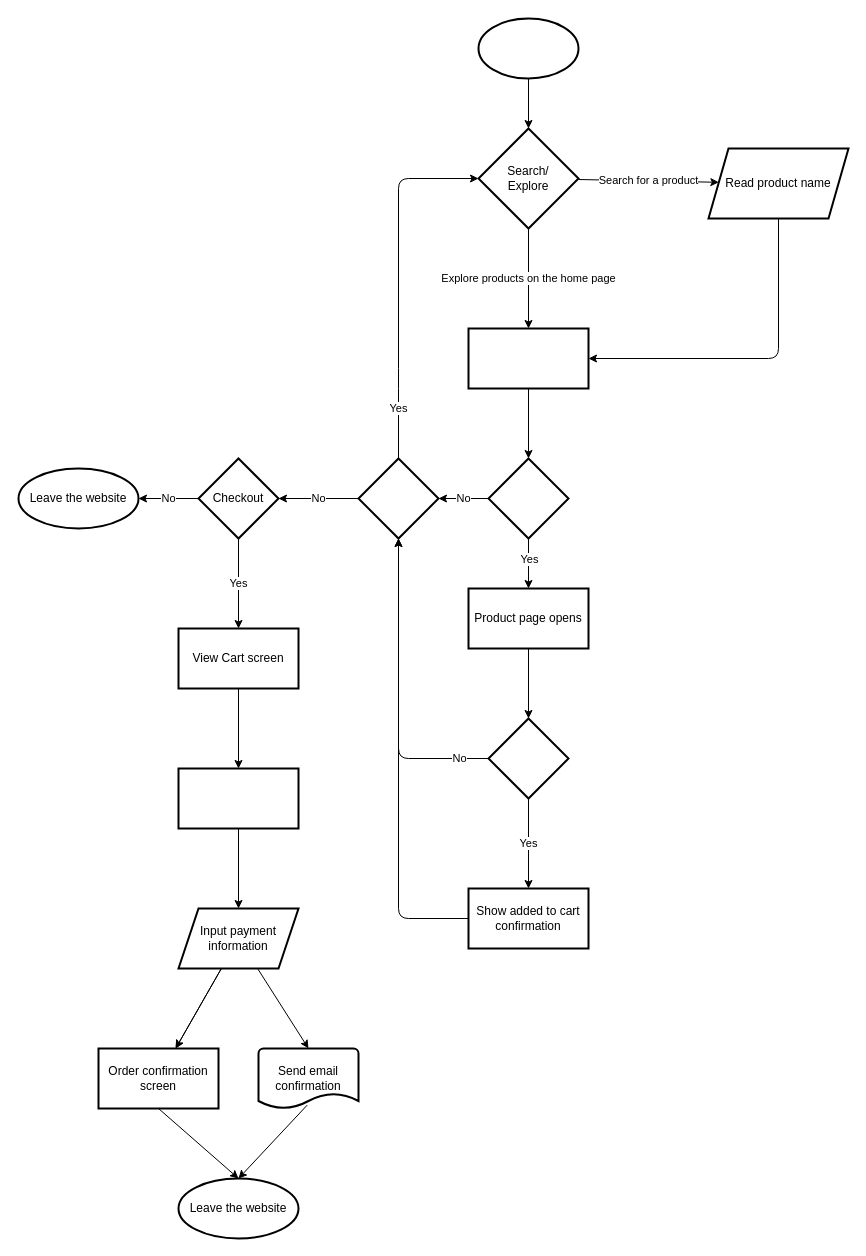
This 866x1256 diagram has some shape labels left out. Each missing label, with the box of its shape:
Add this product to the cart: (487, 717, 569, 799)
Continue shopping: (357, 457, 439, 539)
Looking over the products: (467, 327, 589, 389)
User enters the website: (477, 17, 579, 79)
View Payment screen: (177, 767, 299, 829)
View product: (487, 457, 569, 539)
